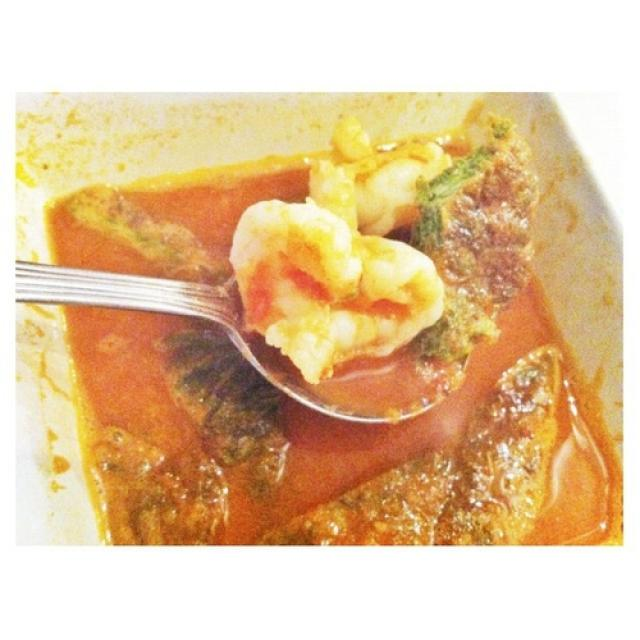汤锅炖物: (19, 98, 627, 562)
